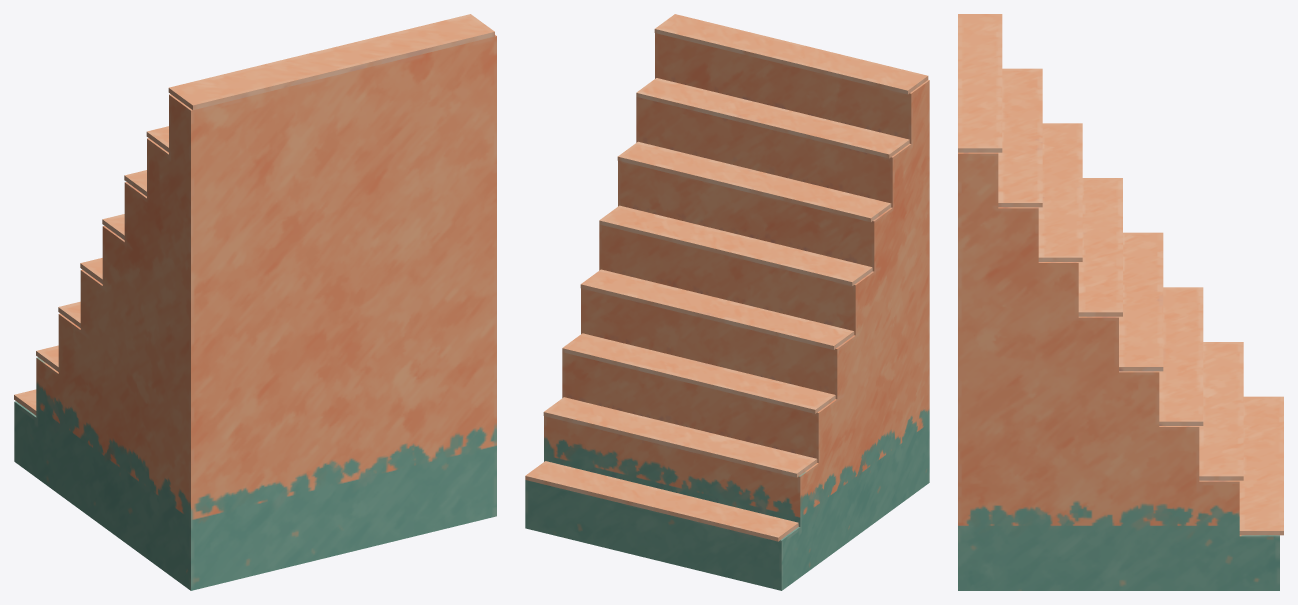
The model's file is stairs_low.fbx.
The picture shows the model from 3 angles, left to right: view 1: azimuth 30°, elevation 25°; view 2: azimuth 150°, elevation 25°; view 3: azimuth 270°, elevation 25°; orthographic projection. The views are drawn at different scales.
Visible parts, largest first — view 1: stairs; view 2: stairs; view 3: stairs.
Boxes of the visible parts, x1,y1,x2,y2 form: stairs: (14,14,496,590); stairs: (525,14,929,590); stairs: (958,14,1283,590).
Size of the model in its own units: 8 by 12.12 by 8.1.
1 material, 1 textured.
